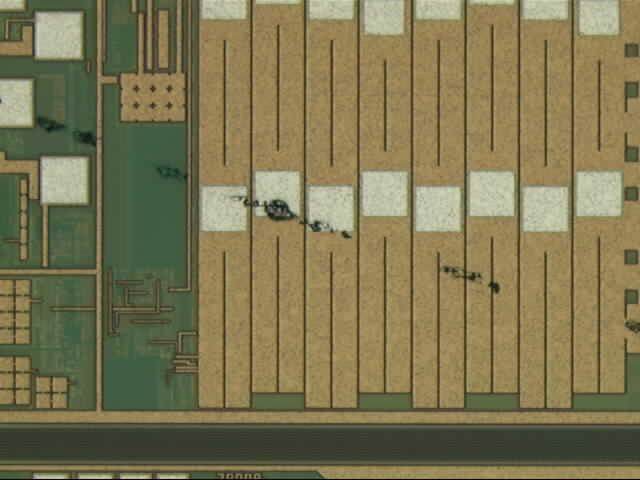SCRATCH: (1, 95, 640, 339)
